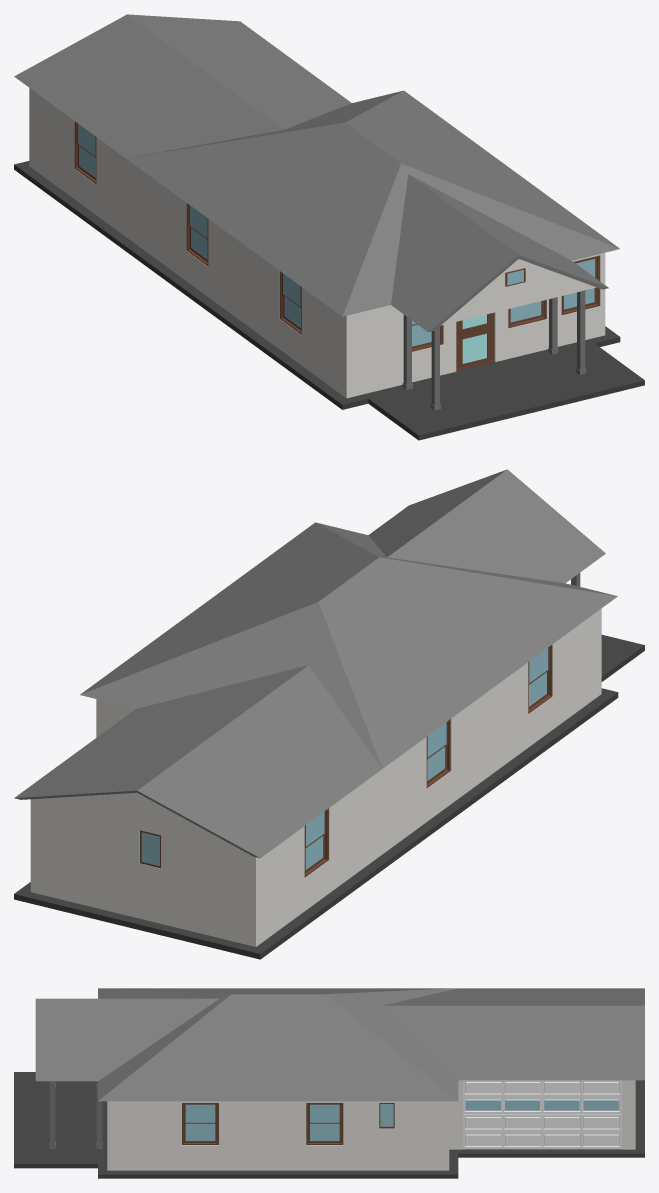
File: task-10-x.obj
3 renders of one model, top to bottom at view 1: azimuth 30°, elevation 25°; view 2: azimuth 150°, elevation 25°; view 3: azimuth 270°, elevation 25°, orthographic. The views are drawn at different scales.
Parts seen in each view (by area): view 1: roof_2, wall, roof_1, ground_base, roof_0, door_frame_0, door_glass_0, pillar_2, pillar_3, window_glass_7, window_glass_6, window_glass_8 (+1 smaller); view 2: roof_2, wall, roof_1, roof_0, ground_base, window_glass_7, window_glass_6, window_glass_8; view 3: roof_2, wall, roof_1, ground_base, roof_0, garage_door_frame_0, garage_door_glass_0, window_glass_3, window_glass_4, window_frame_4, window_frame_3, pillar_2 (+2 smaller).
Boxes of the visible parts, <box> form: roof_2: <box>126,90,619,316</box>; wall: <box>29,88,605,398</box>; roof_1: <box>14,14,351,203</box>; ground_base: <box>14,161,644,440</box>; roof_0: <box>391,174,608,332</box>; door_frame_0: <box>456,312,494,371</box>; door_glass_0: <box>462,314,486,363</box>; pillar_2: <box>576,290,586,374</box>; pillar_3: <box>430,325,440,410</box>; window_glass_7: <box>190,205,207,259</box>; window_glass_6: <box>283,274,300,327</box>; window_glass_8: <box>78,124,95,177</box>; roof_2: <box>80,522,617,768</box>; wall: <box>30,608,601,946</box>; roof_1: <box>14,665,447,858</box>; roof_0: <box>368,469,605,583</box>; ground_base: <box>14,634,644,959</box>; window_glass_7: <box>427,722,446,780</box>; window_glass_6: <box>529,648,548,706</box>; window_glass_8: <box>305,811,324,869</box>; roof_2: <box>98,988,458,1101</box>; wall: <box>107,1080,635,1170</box>; roof_1: <box>383,988,644,1080</box>; ground_base: <box>14,1072,644,1178</box>; roof_0: <box>35,998,219,1081</box>; garage_door_frame_0: <box>463,1080,621,1149</box>; garage_door_glass_0: <box>466,1100,618,1110</box>; window_glass_3: <box>185,1104,215,1140</box>; window_glass_4: <box>310,1104,339,1140</box>; window_frame_4: <box>306,1103,343,1144</box>; window_frame_3: <box>182,1103,218,1144</box>; pillar_2: <box>49,1081,55,1148</box>.
Bounding box in the file's own units: 8.6 × 4.55 × 20.3.
